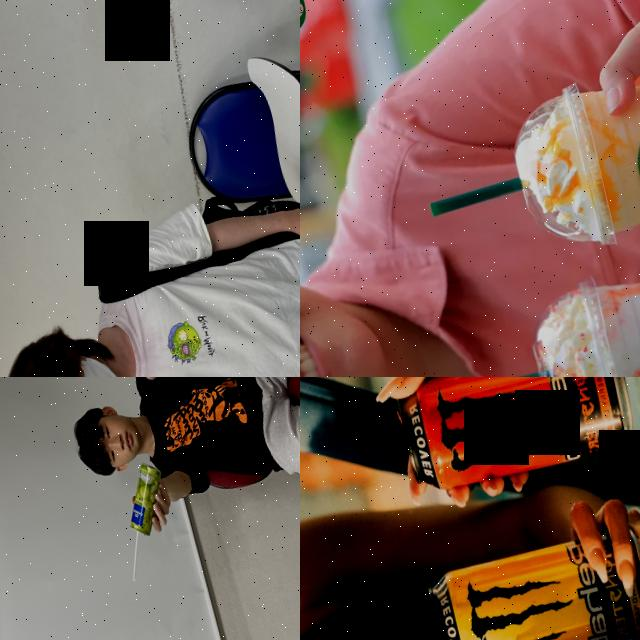can: (389, 377, 640, 500), (420, 516, 640, 640), (115, 458, 174, 538)
cup: (496, 38, 640, 264), (516, 236, 640, 377)
